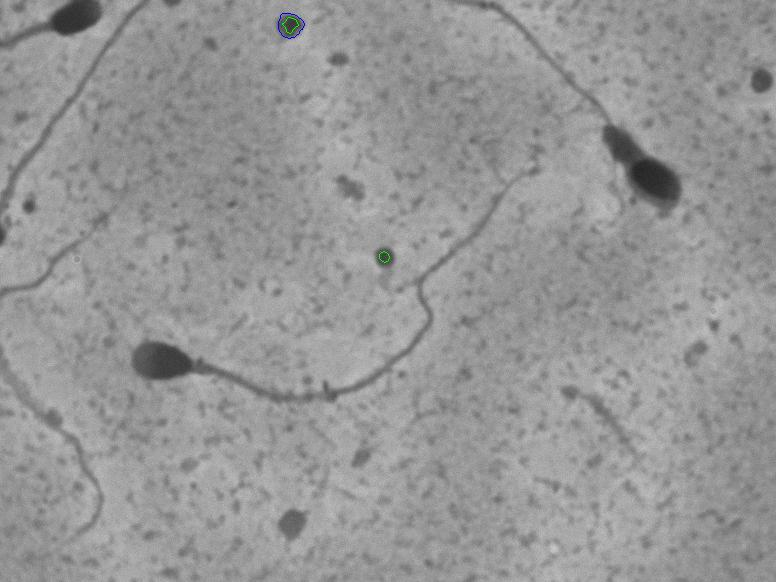Abnormal: (521, 12, 718, 268)
Normal: (122, 172, 551, 442)
